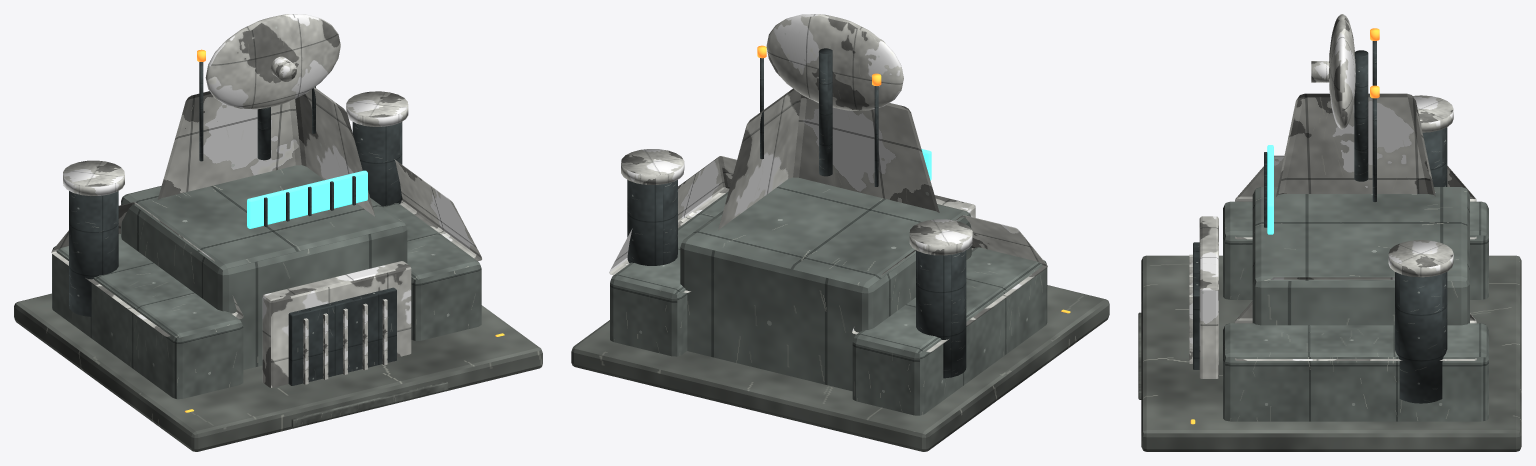
3 renders of one model, left to right at view 1: azimuth 30°, elevation 25°; view 2: azimuth 150°, elevation 25°; view 3: azimuth 270°, elevation 25°, orthographic. The views are drawn at different scales.
Visible parts, largest first — view 1: hq_factory_metal, hq_team_primary, hq_concrete_dark, hq_armor_dark, hq_team_accent, hq_glass_emissive; view 2: hq_factory_metal, hq_team_primary, hq_concrete_dark, hq_armor_dark, hq_team_accent; view 3: hq_factory_metal, hq_concrete_dark, hq_team_primary, hq_armor_dark, hq_team_accent, hq_glass_emissive.
Part boxes in pixels (x1,y1,x2,y2): hq_factory_metal: [52, 165, 481, 399]; hq_team_primary: [51, 14, 481, 387]; hq_concrete_dark: [14, 293, 542, 451]; hq_armor_dark: [69, 62, 402, 385]; hq_team_accent: [63, 56, 408, 384]; hq_glass_emissive: [247, 170, 367, 228]; hq_factory_metal: [610, 177, 1047, 415]; hq_team_primary: [609, 14, 1047, 352]; hq_concrete_dark: [571, 285, 1109, 451]; hq_armor_dark: [627, 48, 966, 378]; hq_team_accent: [621, 149, 972, 255]; hq_factory_metal: [1223, 187, 1488, 421]; hq_concrete_dark: [1138, 255, 1521, 451]; hq_team_primary: [1199, 14, 1476, 378]; hq_armor_dark: [1193, 41, 1447, 403]; hq_team_accent: [1189, 61, 1453, 363]; hq_glass_emissive: [1267, 145, 1273, 234].
Size of the model in its own units: 7 by 6.19 by 6.33.
7 materials, 5 textured.
